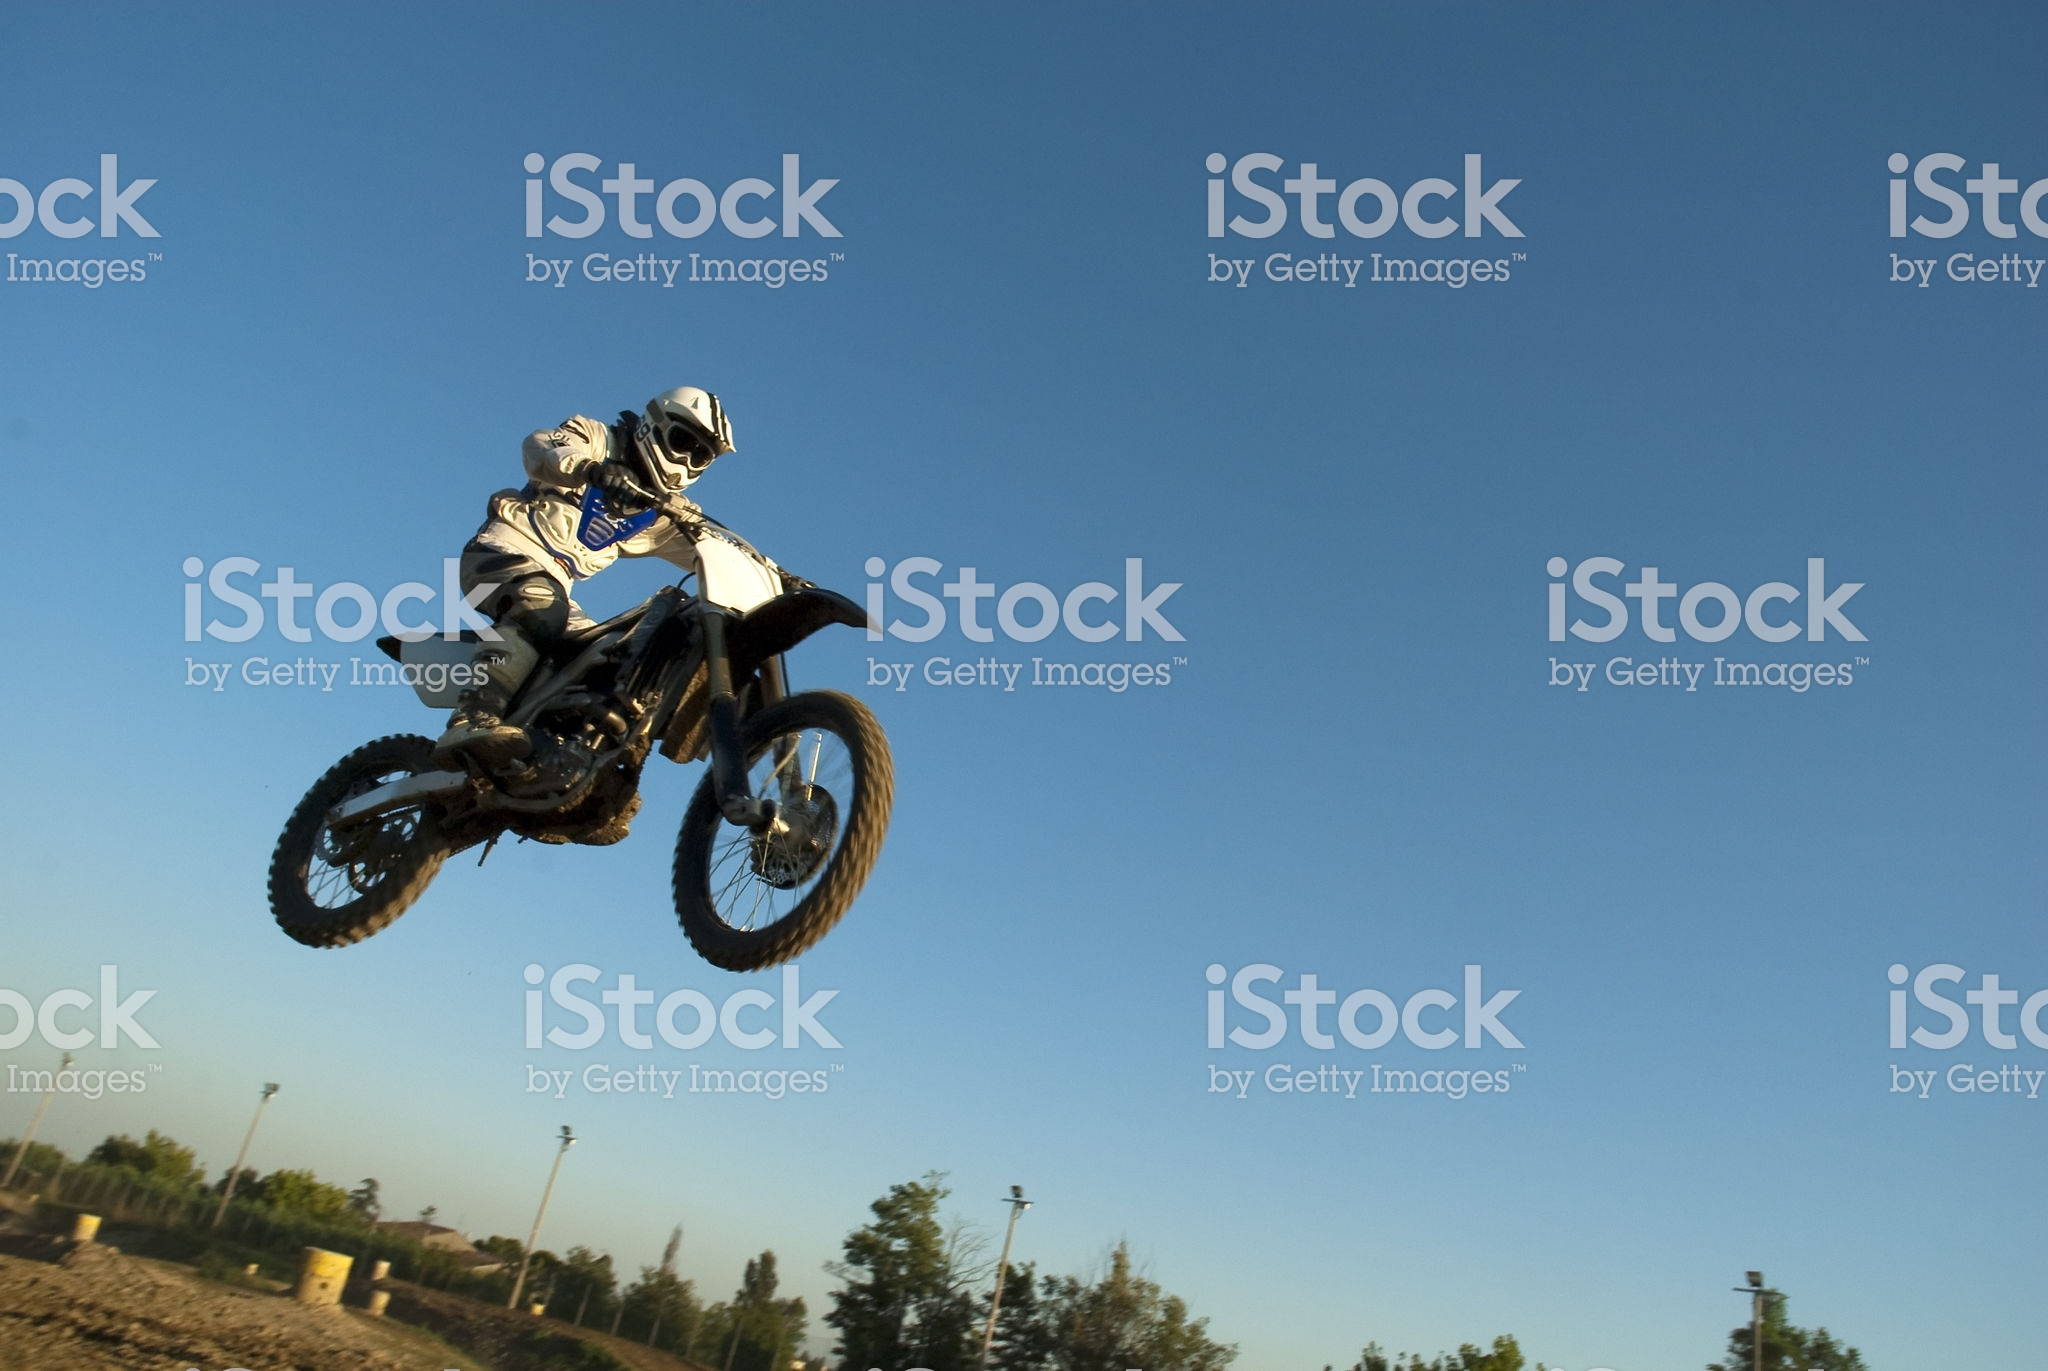helmet: (645, 376, 736, 493)
